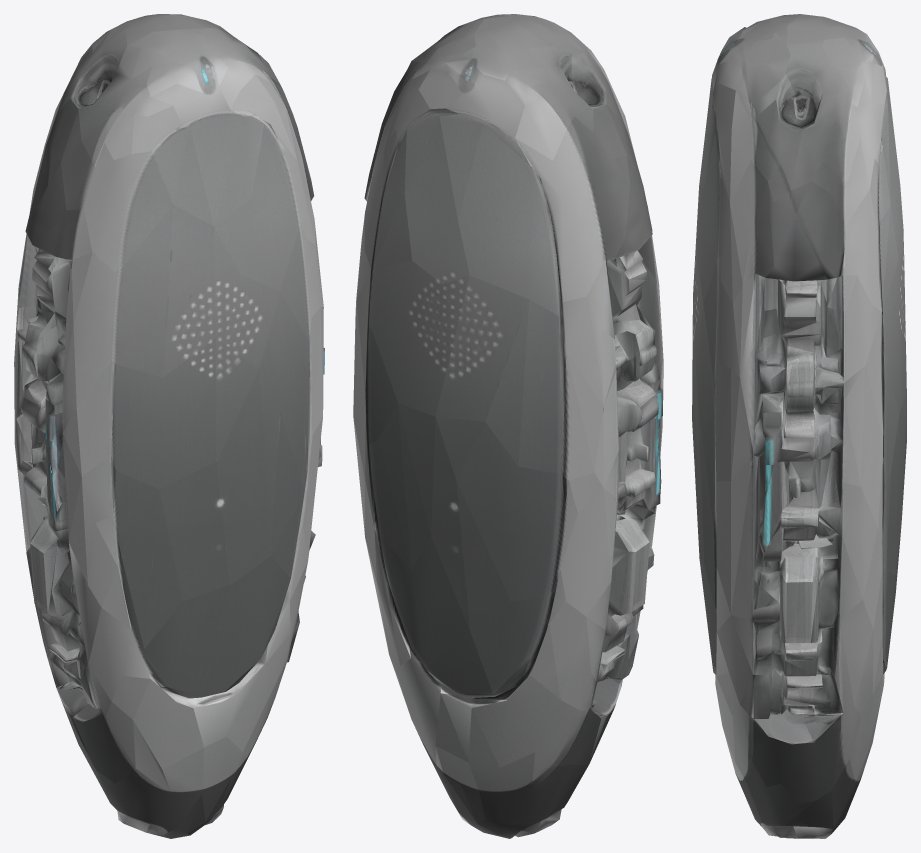
Rendered from aura.glb.
3 renders of one model, left to right at view 1: azimuth 30°, elevation 25°; view 2: azimuth 150°, elevation 25°; view 3: azimuth 270°, elevation 25°, orthographic.
Parts seen in each view (by area): view 1: mesh_node; view 2: mesh_node; view 3: mesh_node.
Part boxes in pixels (left/top/right/bottom): mesh_node: left=14, top=14, right=324, bottom=838; mesh_node: left=353, top=14, right=663, bottom=838; mesh_node: left=692, top=14, right=906, bottom=838.
Size of the model in its own units: 0.7036 by 1.9 by 0.4565.
1 material, 1 textured.
